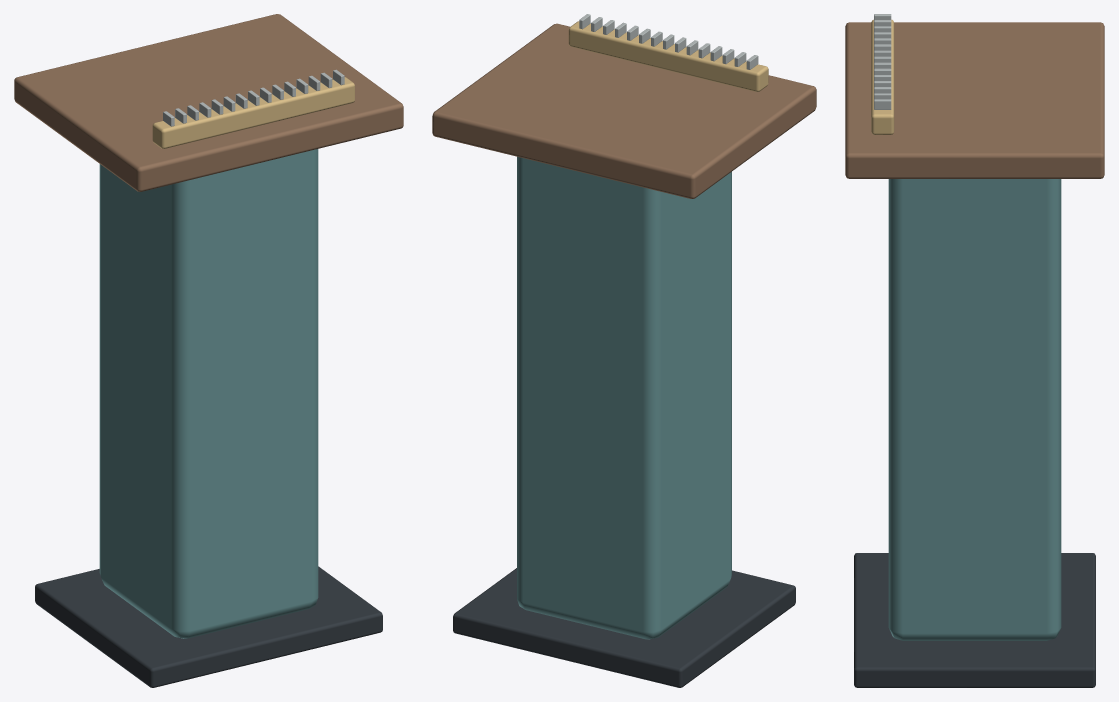
File: abandoned-cinema-and-projection-booth-abandoned-cinema-dbdc40c1.glb
3 renders of one model, left to right at view 1: azimuth 30°, elevation 25°; view 2: azimuth 150°, elevation 25°; view 3: azimuth 270°, elevation 25°, orthographic. The views are drawn at different scales.
Parts seen in each view (by area): view 1: abandoned-cinema-and-projection-booth-ticket-tearing-podium_ (×5); view 2: abandoned-cinema-and-projection-booth-ticket-tearing-podium_ (×5); view 3: abandoned-cinema-and-projection-booth-ticket-tearing-podium_ (×5).
Part boxes in pixels (x1,y1,x2,y2): abandoned-cinema-and-projection-booth-ticket-tearing-podium_ (×5): [14, 14, 403, 687]; abandoned-cinema-and-projection-booth-ticket-tearing-podium_ (×5): [432, 14, 816, 687]; abandoned-cinema-and-projection-booth-ticket-tearing-podium_ (×5): [845, 14, 1104, 687].
Bounding box in the file's own units: 0.55 × 1.1 × 0.45.
